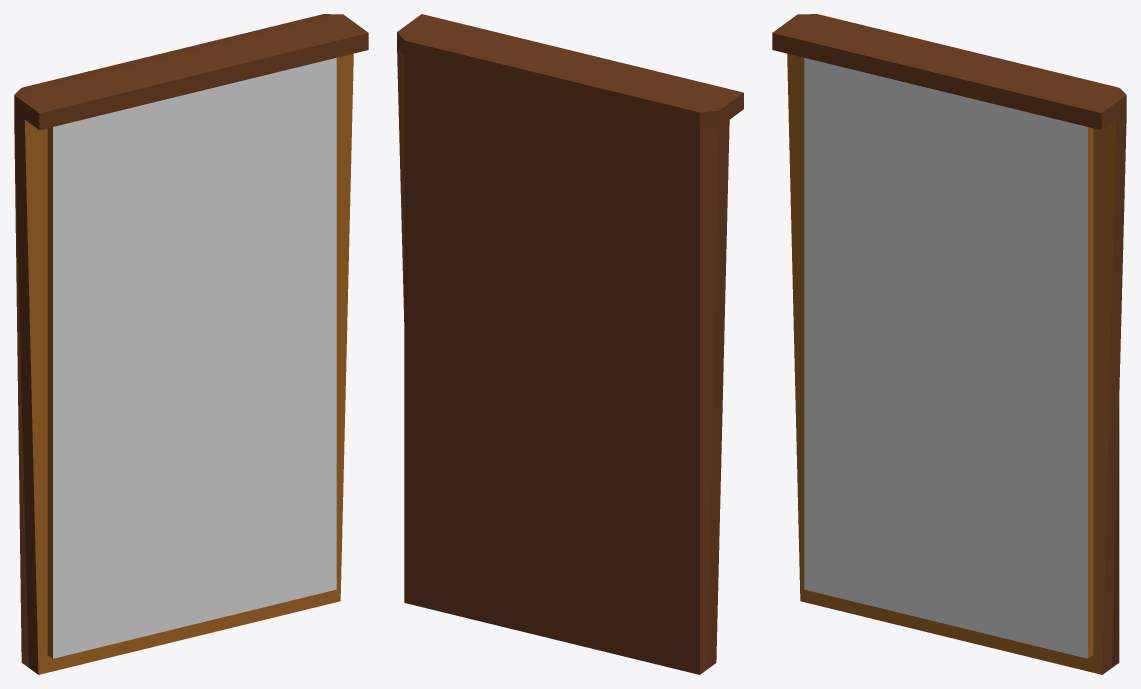
File: Mirror.fbx
3 views of the same model, side by side, from view 1: azimuth 30°, elevation 25°; view 2: azimuth 150°, elevation 25°; view 3: azimuth 330°, elevation 25° (orthographic). The views are drawn at different scales.
Visible parts, largest first — view 1: Cube.001; view 2: Cube.001; view 3: Cube.001.
Part boxes in pixels (x1=…): Cube.001: x1=14, y1=14, x2=368, y2=674; Cube.001: x1=397, y1=14, x2=743, y2=674; Cube.001: x1=772, y1=14, x2=1126, y2=674.
Size of the model in its own units: 258 by 431 by 42.64.
